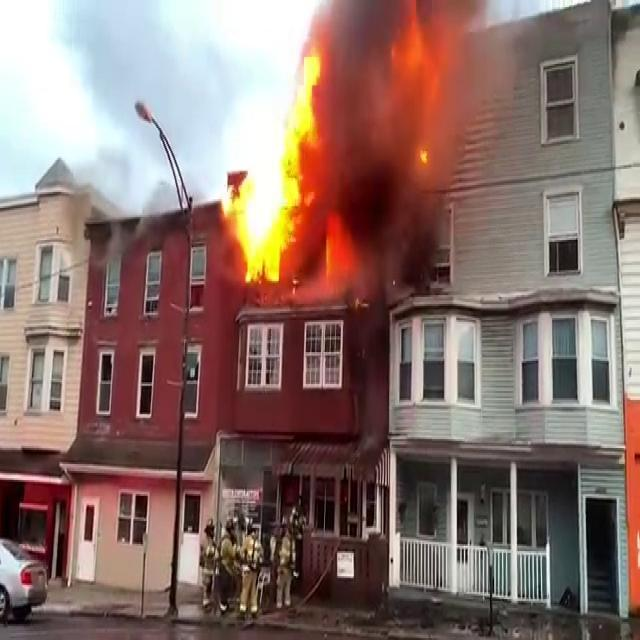Fire: (221, 38, 326, 286)
Smoke: (304, 0, 510, 292)
